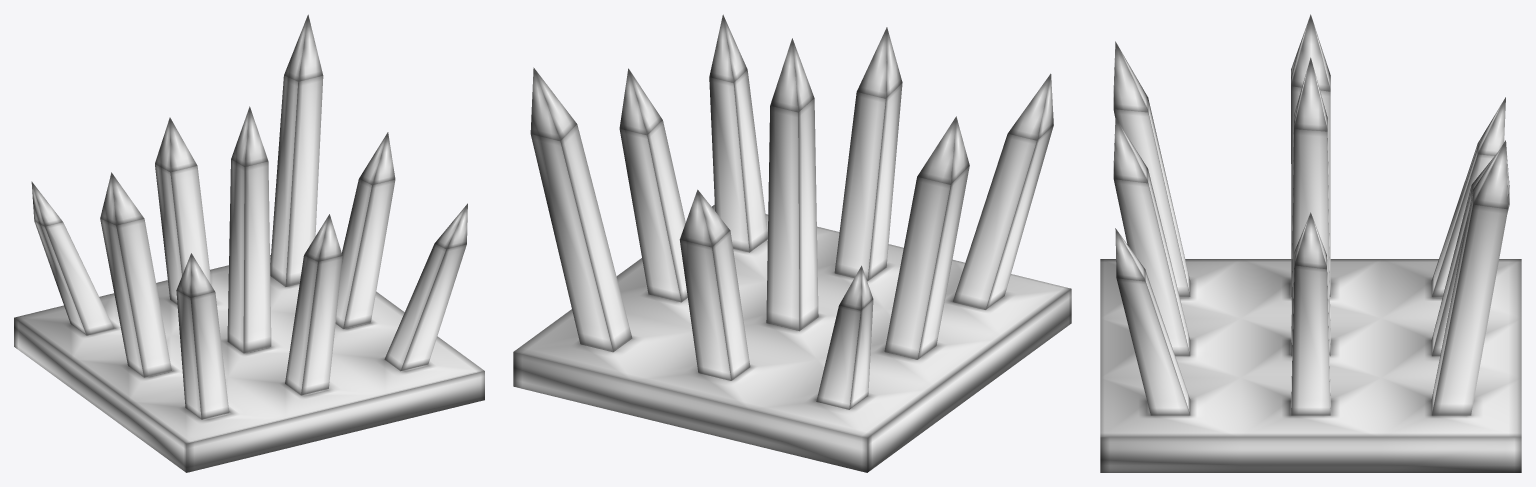
The model's file is Spikes-01.fbx.
3 renders of one model, left to right at view 1: azimuth 30°, elevation 25°; view 2: azimuth 150°, elevation 25°; view 3: azimuth 270°, elevation 25°, orthographic. The views are drawn at different scales.
Visible parts, largest first — view 1: Spikes-01; view 2: Spikes-01; view 3: Spikes-01.
Part boxes in pixels (left/top/right/bottom): Spikes-01: left=14, top=14, right=484, bottom=472; Spikes-01: left=513, top=14, right=1071, bottom=472; Spikes-01: left=1100, top=14, right=1521, bottom=472.
Bounding box in the file's own units: 0.6667 × 0.571 × 0.6667.
